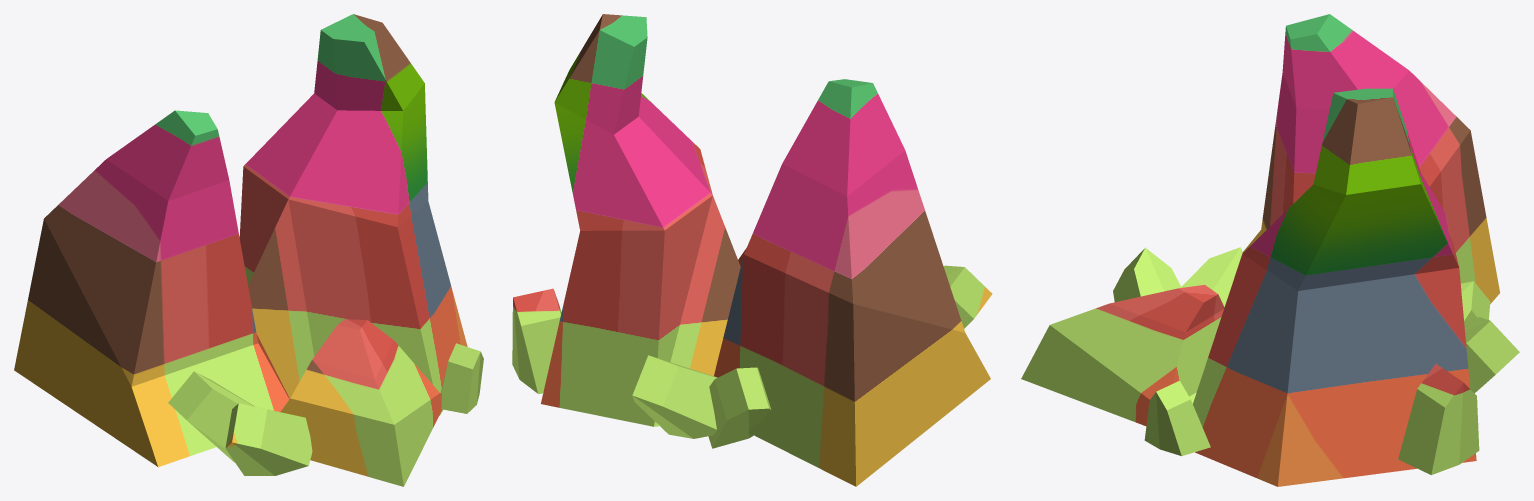
Rendered from rock_18.fbx.
The picture shows the model from 3 angles, left to right: view 1: azimuth 30°, elevation 25°; view 2: azimuth 150°, elevation 25°; view 3: azimuth 270°, elevation 25°; orthographic projection. The views are drawn at different scales.
Visible parts, largest first — view 1: rock_18; view 2: rock_18; view 3: rock_18.
Part boxes in pixels (x1=…): rock_18: x1=14, y1=14, x2=483, y2=486; rock_18: x1=512, y1=14, x2=992, y2=486; rock_18: x1=1021, y1=14, x2=1519, y2=486.
Bounding box in the file's own units: 230 × 210 × 257.
